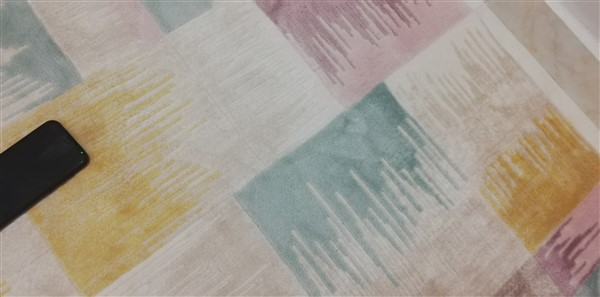telefon: (1, 114, 91, 243)
